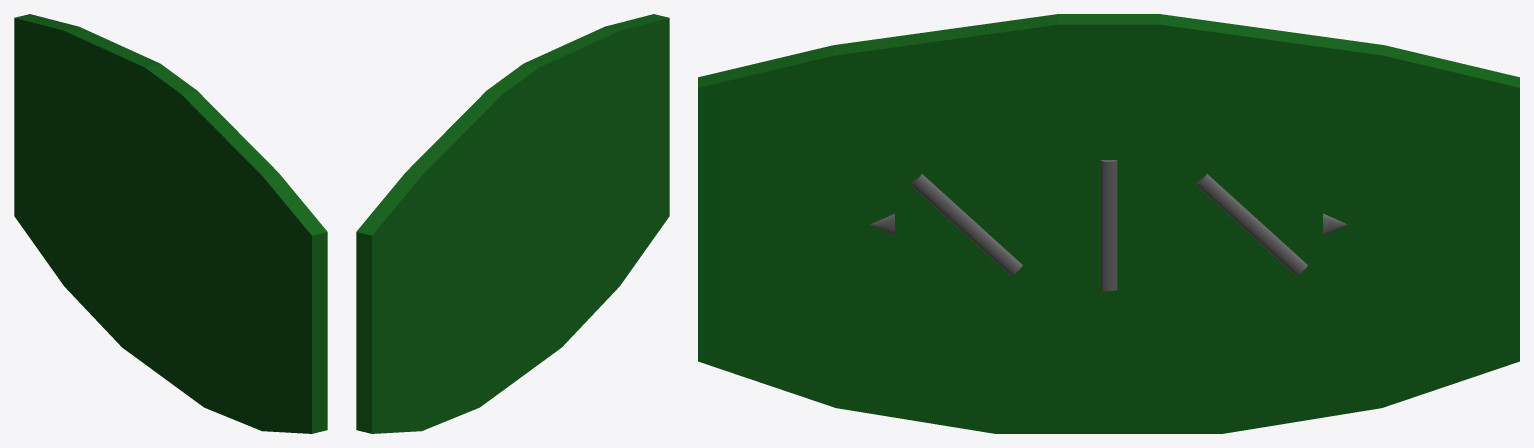
The model's file is CircuitBoard1.fbx.
The picture shows the model from 3 angles, left to right: view 1: azimuth 30°, elevation 25°; view 2: azimuth 150°, elevation 25°; view 3: azimuth 270°, elevation 25°; orthographic projection. The views are drawn at different scales.
Parts seen in each view (by area): view 1: Cube; view 2: Cube; view 3: Cube, Cylinder.001, Cylinder, Cylinder.002.
Boxes of the visible parts, left/top/right/bottom form: Cube: left=14, top=14, right=327, bottom=433; Cube: left=356, top=14, right=669, bottom=433; Cube: left=698, top=14, right=1519, bottom=433; Cylinder.001: left=1100, top=160, right=1117, bottom=290; Cylinder: left=910, top=174, right=1022, bottom=275; Cylinder.002: left=1195, top=174, right=1307, bottom=275.
Size of the model in its own units: 7 by 108 by 196.
